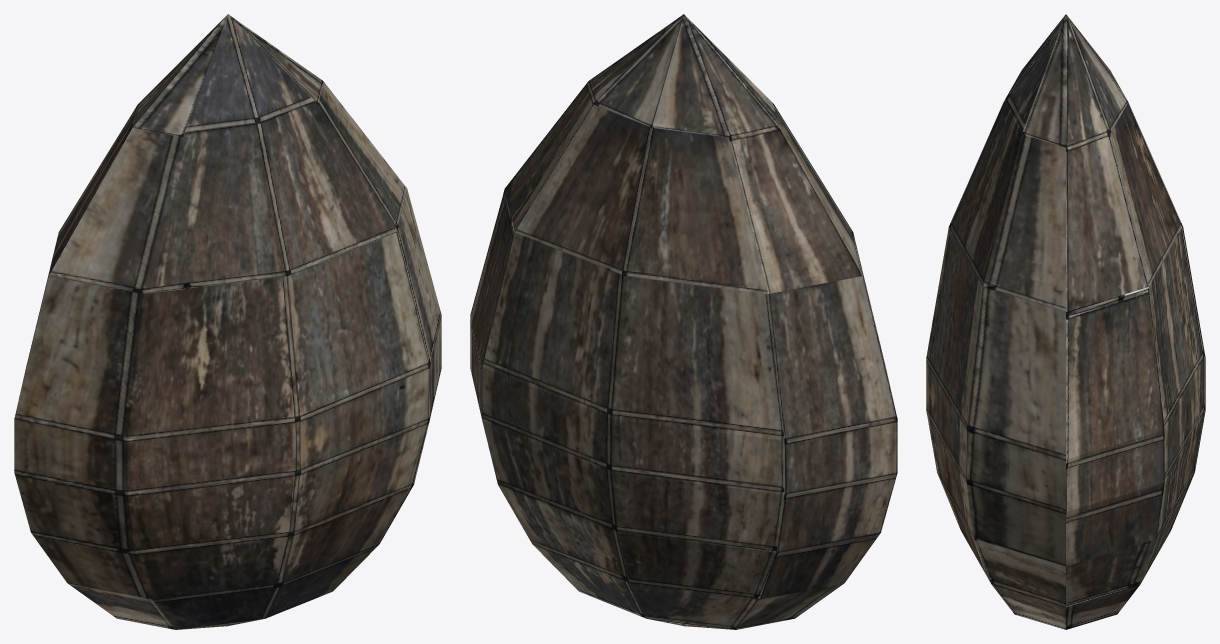
File: sunflower.fbx
The picture shows the model from 3 angles, left to right: view 1: azimuth 30°, elevation 25°; view 2: azimuth 150°, elevation 25°; view 3: azimuth 270°, elevation 25°; orthographic projection. The views are drawn at different scales.
Visible parts, largest first — view 1: gamseed; view 2: gamseed; view 3: gamseed.
Part boxes in pixels (box(x1,y1,x2,y2)): gamseed: box(14, 14, 441, 629); gamseed: box(470, 14, 897, 629); gamseed: box(926, 14, 1205, 629).
Bounding box in the file's own units: 60.29 × 82.56 × 35.01.
Materials: 1 (1 with a texture image).
